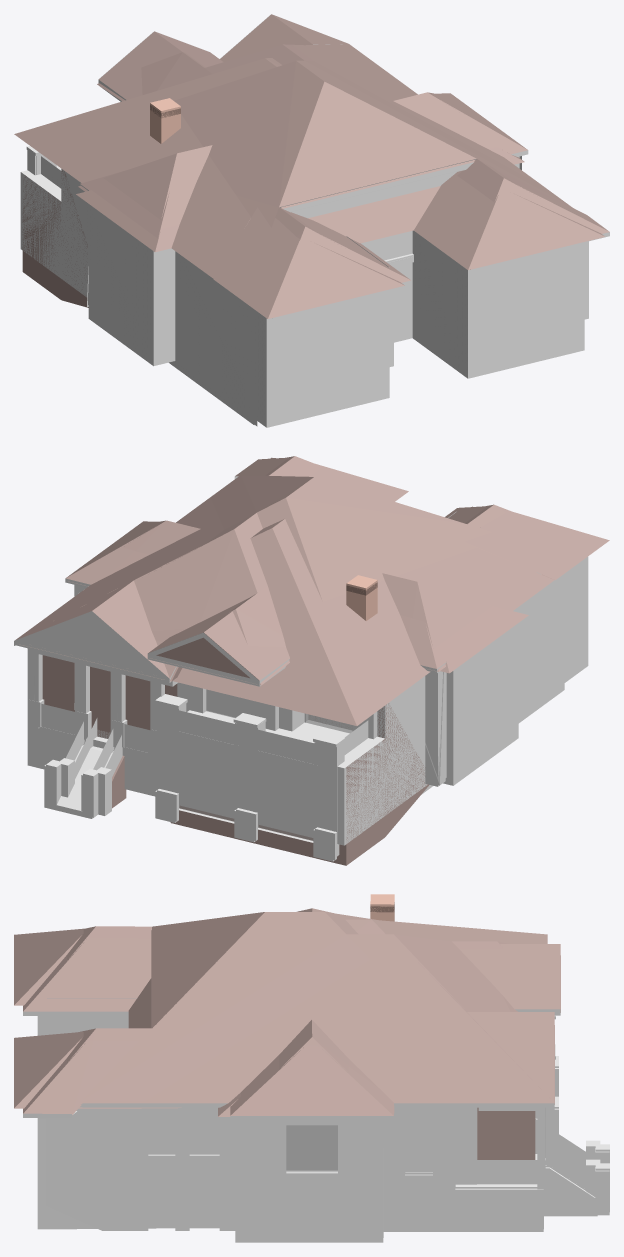
The model's file is house4.dae.
3 renders of one model, top to bottom at view 1: azimuth 30°, elevation 25°; view 2: azimuth 150°, elevation 25°; view 3: azimuth 270°, elevation 25°, orthographic. The views are drawn at different scales.
Parts seen in each view (by area): view 1: house4_a100, house4_a250, house4_a500, Colmesh-1; view 2: house4_a100, house4_a250, house4_a500, Colmesh-1; view 3: house4_a500, house4_a250, house4_a100, Colmesh-1.
Part boxes in pixels (x1,y1,x2,y2): house4_a100: [14, 58, 604, 427]; house4_a250: [27, 44, 569, 424]; house4_a500: [26, 14, 609, 426]; Colmesh-1: [22, 170, 88, 307]; house4_a100: [97, 457, 609, 845]; house4_a250: [19, 456, 564, 860]; house4_a500: [14, 457, 512, 861]; Colmesh-1: [42, 655, 429, 865]; house4_a500: [23, 904, 609, 1242]; house4_a250: [47, 894, 609, 1237]; house4_a100: [14, 919, 547, 1229]; Colmesh-1: [477, 1107, 600, 1196].
Size of the model in its own units: 19.22 by 24.82 by 12.04.
